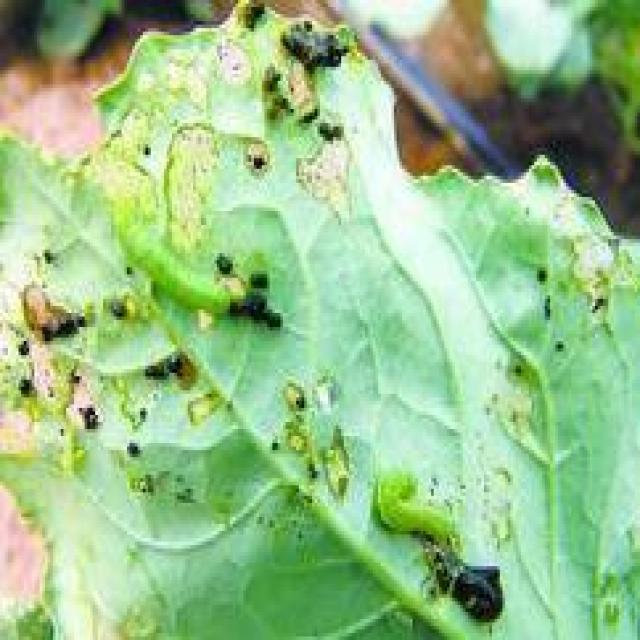BeetArmyWorm-Larva-: (106, 195, 235, 323), (374, 460, 459, 548)
